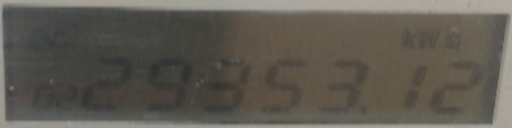1: (400, 52, 428, 116)
2: (427, 49, 486, 120), (77, 48, 133, 114), (321, 50, 365, 120)
3: (202, 50, 252, 114)
5: (265, 53, 304, 115)
9: (144, 50, 193, 113)
d: (358, 103, 374, 119)
